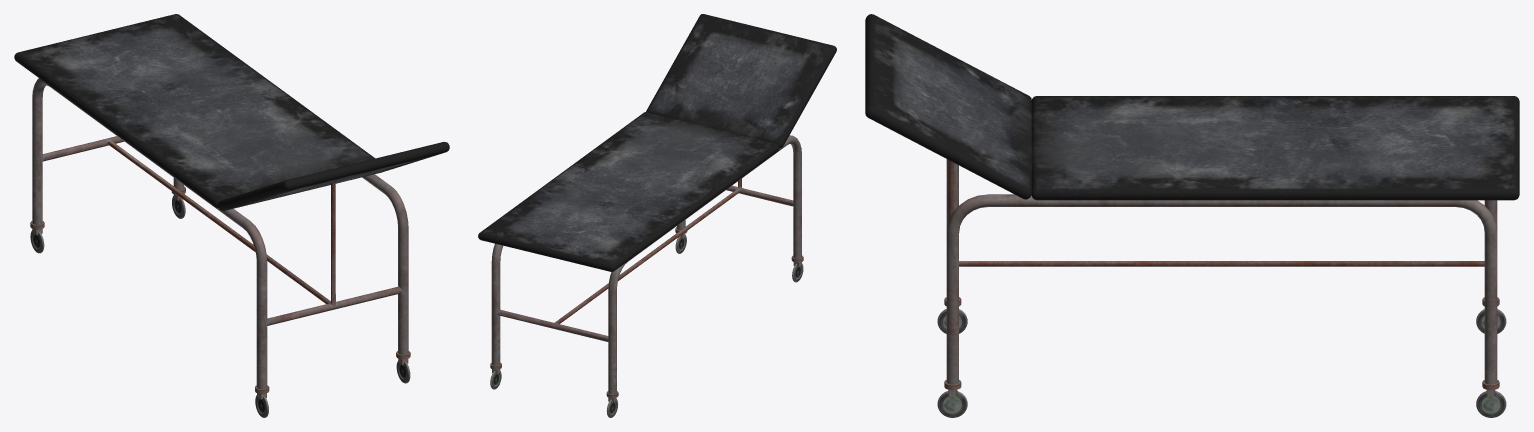
The picture shows the model from 3 angles, left to right: view 1: azimuth 30°, elevation 25°; view 2: azimuth 150°, elevation 25°; view 3: azimuth 270°, elevation 25°; orthographic projection. The views are drawn at different scales.
Visible parts, largest first — view 1: SM_mattress, SM_bedframe, SM_mattress_head; view 2: SM_mattress, SM_mattress_head, SM_bedframe; view 3: SM_mattress, SM_mattress_head, SM_bedframe, SM_bed_wheels.002, SM_bed_wheels.
Boxes of the visible parts, x1,y1,x2,y2 form: SM_mattress: (14, 14, 375, 207); SM_bedframe: (30, 78, 410, 399); SM_mattress_head: (218, 142, 449, 210); SM_mattress: (478, 112, 779, 271); SM_mattress_head: (646, 14, 836, 148); SM_bedframe: (490, 135, 803, 402); SM_mattress: (1031, 96, 1519, 200); SM_mattress_head: (865, 14, 1031, 199); SM_bedframe: (944, 159, 1499, 396); SM_bed_wheels.002: (937, 391, 967, 417); SM_bed_wheels: (1476, 391, 1506, 417).
Size of the model in its own units: 109 by 166 by 311.
Materials: 1 (1 with a texture image).
